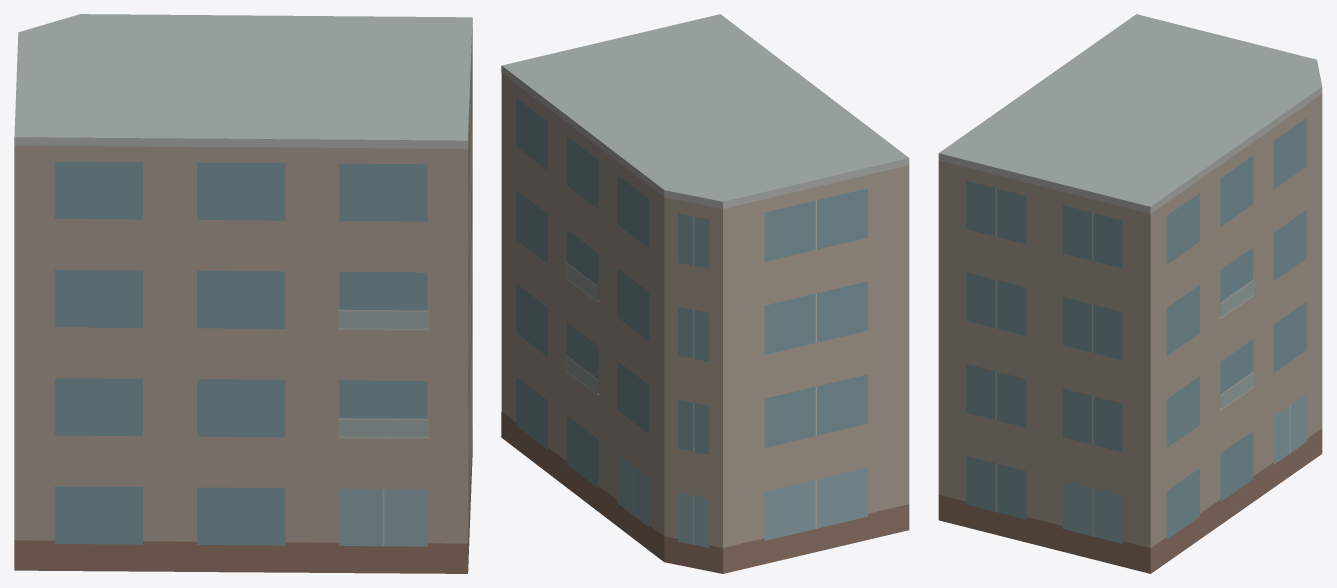
Rendered from survey-upis-32583608.glb.
3 renders of one model, left to right at view 1: azimuth 30°, elevation 25°; view 2: azimuth 150°, elevation 25°; view 3: azimuth 270°, elevation 25°, orthographic. The views are drawn at different scales.
Visible parts, largest first — view 1: survey-upis-32583608.tmp; view 2: survey-upis-32583608.tmp; view 3: survey-upis-32583608.tmp.
Part boxes in pixels (x1=…): survey-upis-32583608.tmp: x1=14, y1=14, x2=472, y2=573; survey-upis-32583608.tmp: x1=501, y1=14, x2=909, y2=573; survey-upis-32583608.tmp: x1=938, y1=14, x2=1322, y2=573.
Size of the model in its own units: 14.32 by 12.7 by 12.04.
